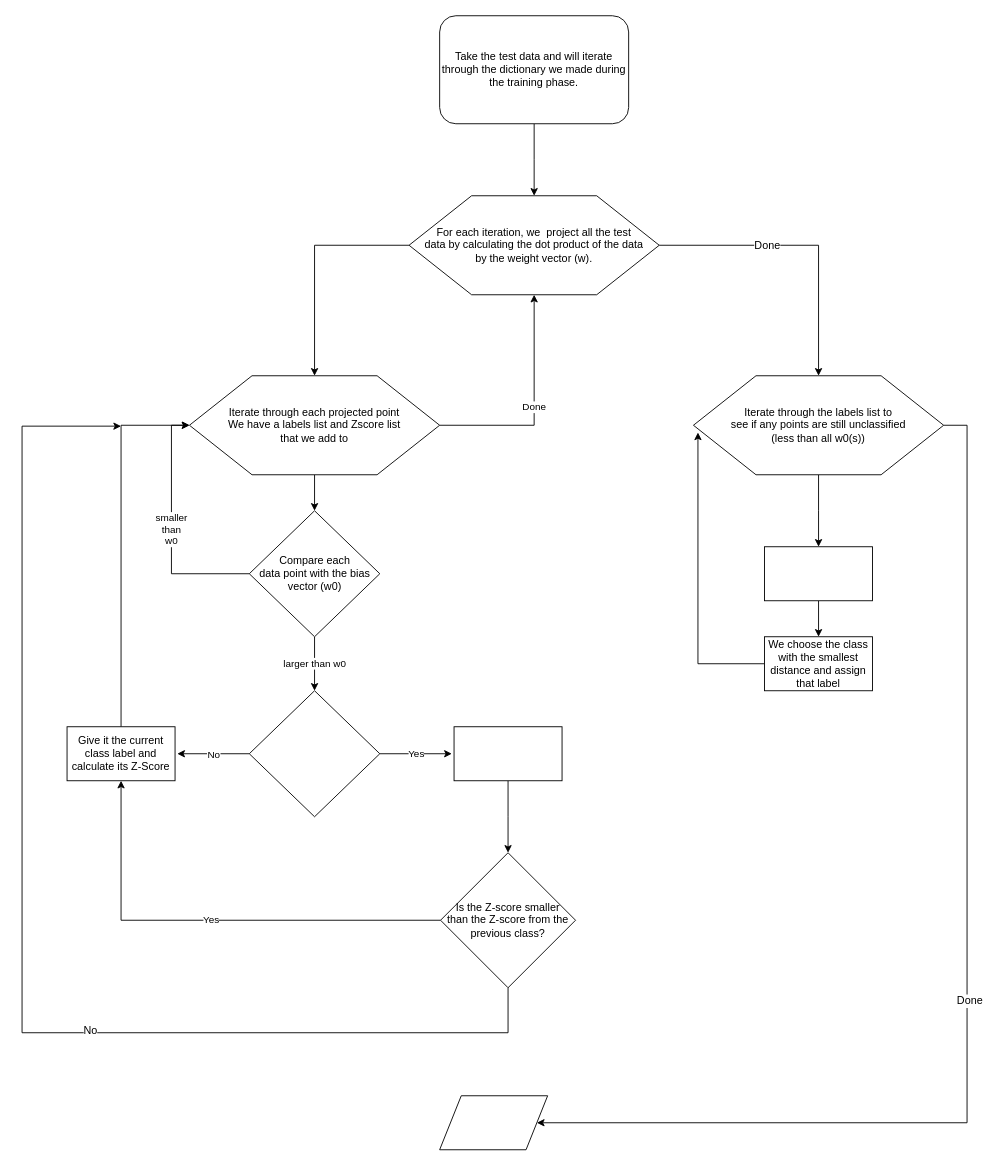
This 998x1166 diagram has some shape labels left out. The centre of each missing label's shape, as x and y in pixels:
"Calculate its Z-score" goes at point (507, 753).
"Calculate the normalized distance from w0 of each class." goes at point (818, 573).
"has this point been classified before?" goes at point (314, 753).
"Return Labels" goes at point (493, 1122).
